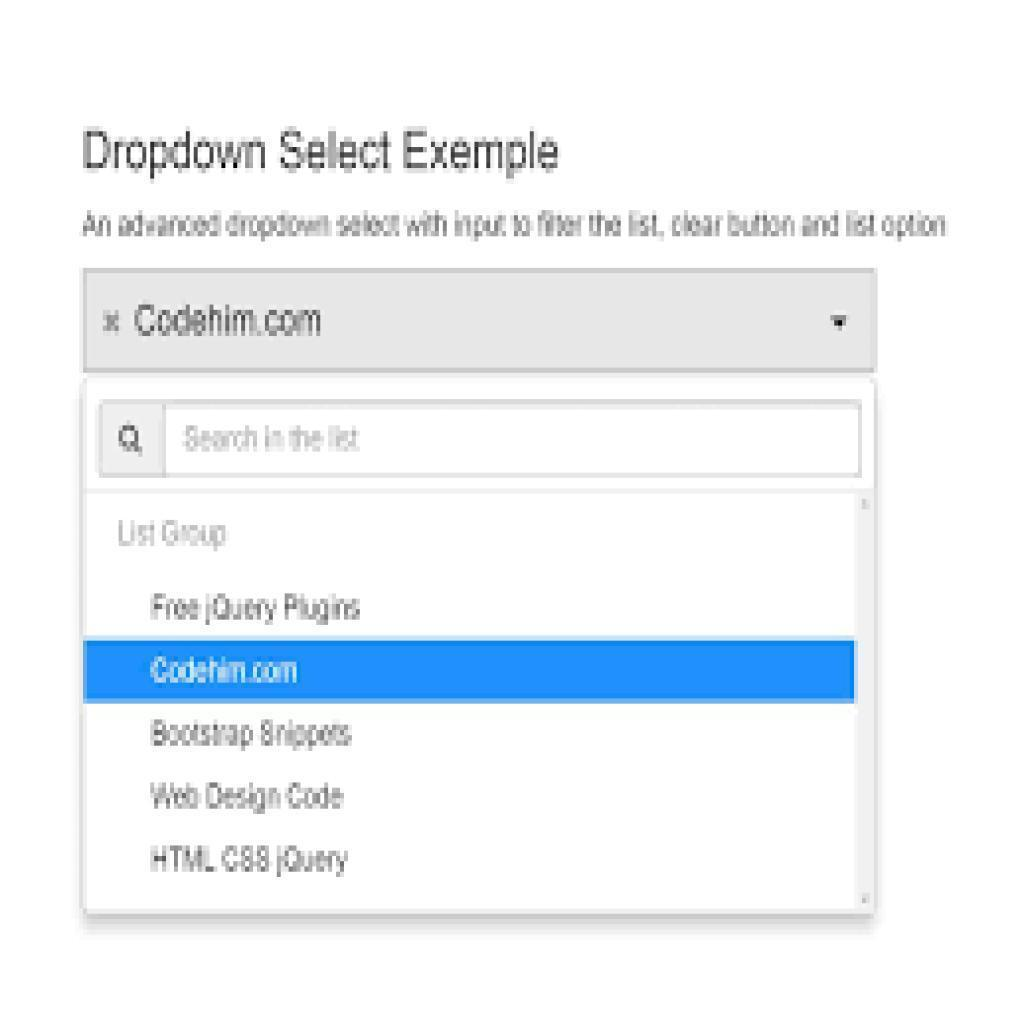dropdown: (81, 264, 878, 374)
icon: (101, 402, 164, 475)
input: (166, 403, 860, 476)
